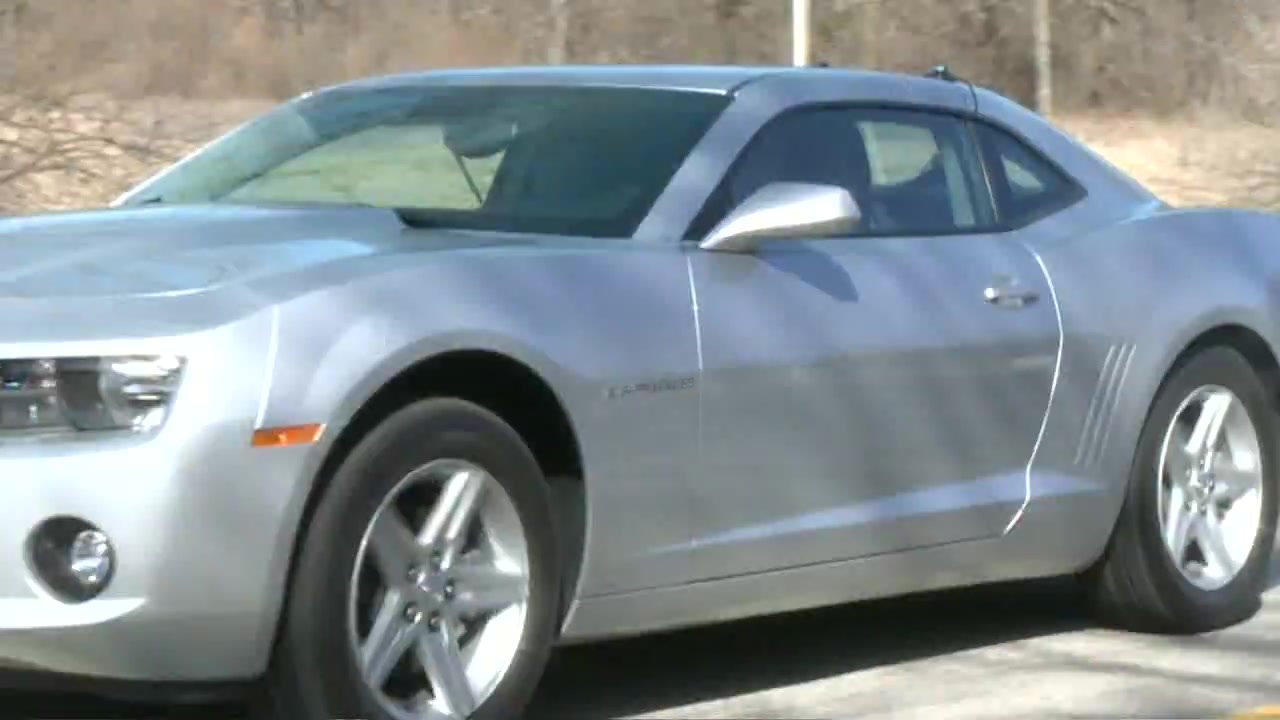car: (3, 60, 1280, 720)
